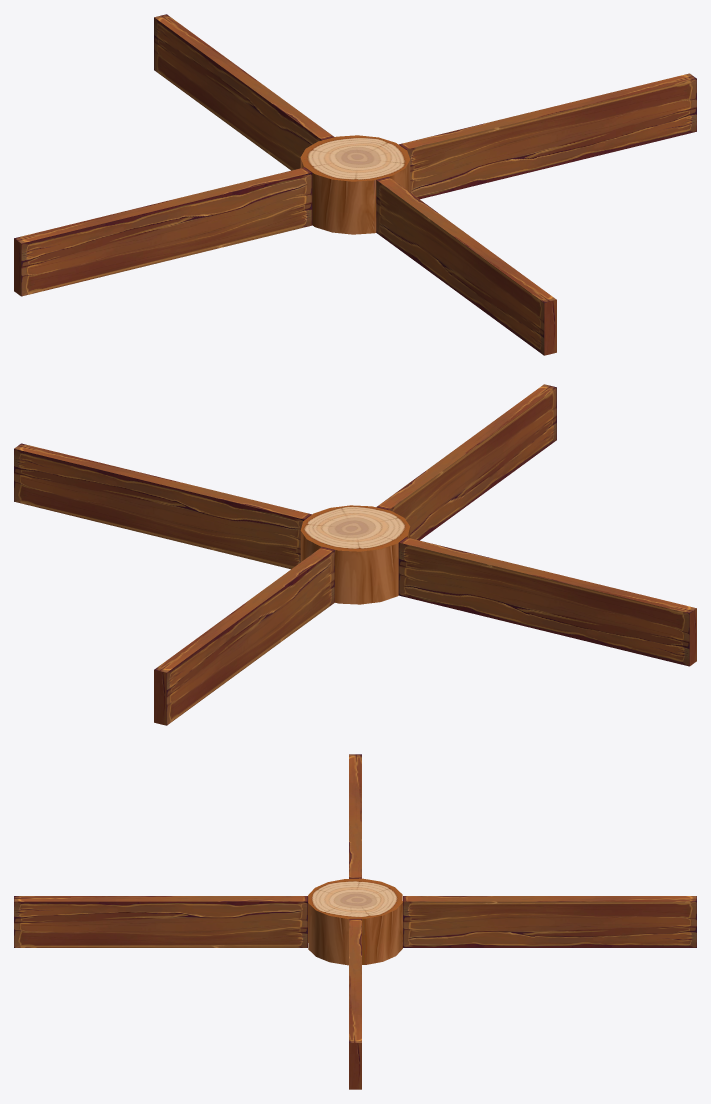
The model's file is four_blade_wood_03.fbx.
The picture shows the model from 3 angles, top to bottom: view 1: azimuth 30°, elevation 25°; view 2: azimuth 150°, elevation 25°; view 3: azimuth 270°, elevation 25°; orthographic projection. The views are drawn at different scales.
Parts seen in each view (by area): view 1: four_blade_wood_03; view 2: four_blade_wood_03; view 3: four_blade_wood_03.
Part boxes in pixels (<box>): four_blade_wood_03: <box>14,14,696,355</box>; four_blade_wood_03: <box>14,384,696,725</box>; four_blade_wood_03: <box>14,754,696,1089</box>.
Bounding box in the file's own units: 534 × 40 × 534.
